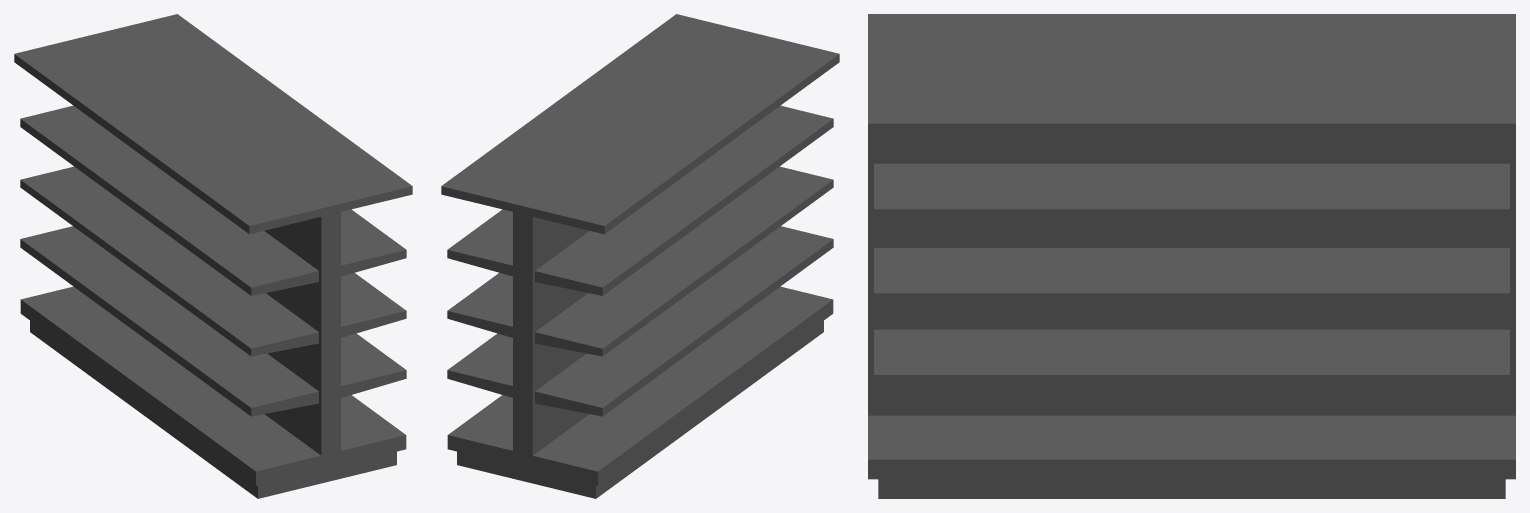
The model's file is StoreShelf.fbx.
3 views of the same model, side by side, from view 1: azimuth 30°, elevation 25°; view 2: azimuth 150°, elevation 25°; view 3: azimuth 270°, elevation 25° (orthographic). The views are drawn at different scales.
Parts seen in each view (by area): view 1: StoreShelf_LOD0; view 2: StoreShelf_LOD0; view 3: StoreShelf_LOD0.
Part boxes in pixels (box(x1,y1,x2,y2)): StoreShelf_LOD0: box(14, 14, 412, 498); StoreShelf_LOD0: box(441, 14, 839, 498); StoreShelf_LOD0: box(868, 14, 1515, 498).
Size of what is drawn, in the model's own units: 281 by 458 by 701.
Materials: 1 (1 with a texture image).
